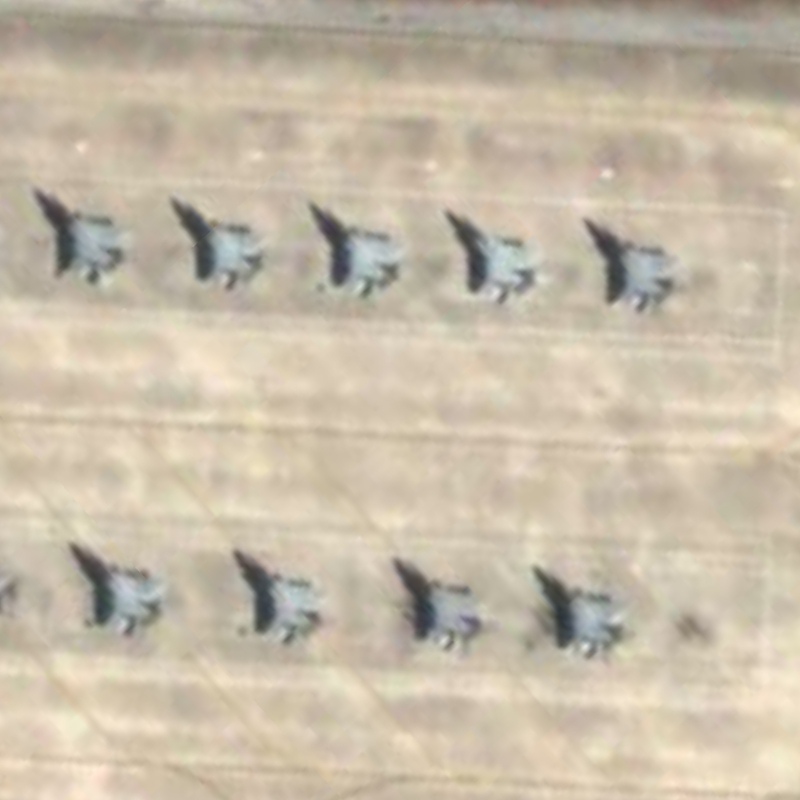A13: (528, 557, 638, 667), (70, 532, 175, 642), (439, 202, 547, 308), (389, 550, 495, 657), (167, 187, 272, 294), (579, 211, 685, 316), (226, 542, 330, 648), (310, 199, 410, 304), (43, 186, 140, 290)
